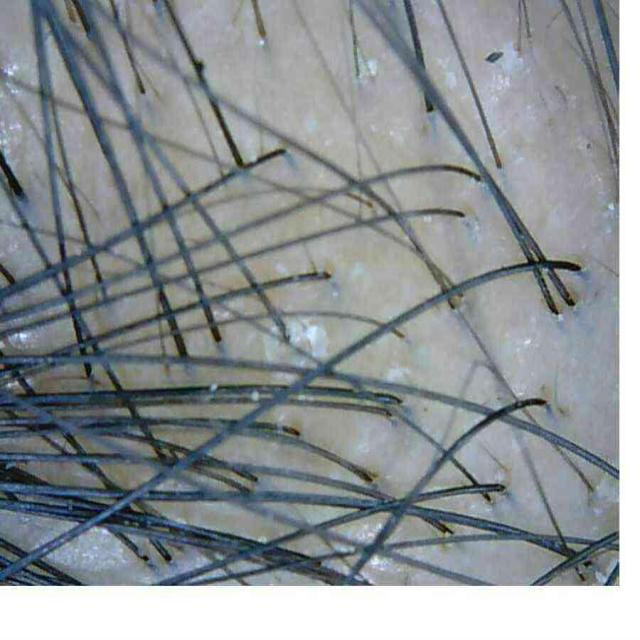d: (286, 317, 329, 360), (354, 52, 378, 81)
